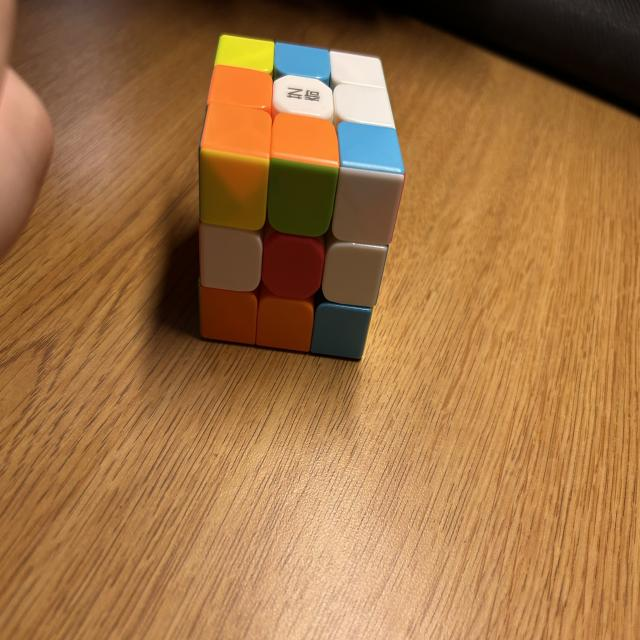Rubiks Cube: (198, 33, 404, 359)
